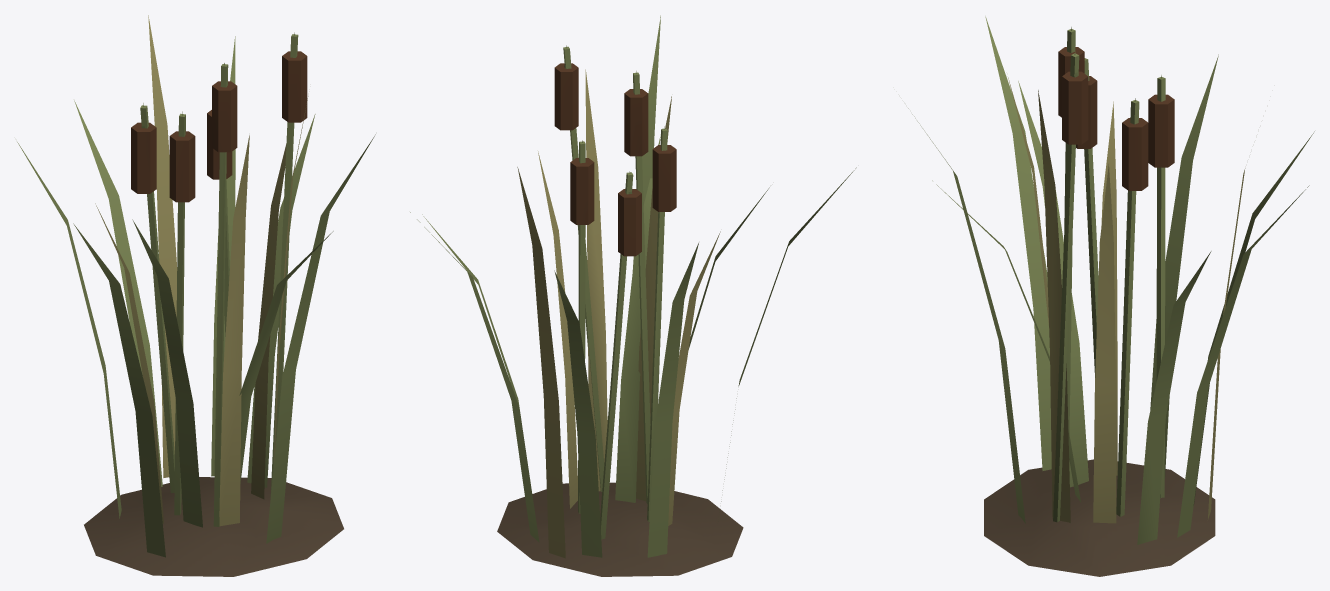
The model's file is reeds_cattail.glb.
3 renders of one model, left to right at view 1: azimuth 30°, elevation 25°; view 2: azimuth 150°, elevation 25°; view 3: azimuth 270°, elevation 25°, orthographic. The views are drawn at different scales.
Visible parts, largest first — view 1: sway, reeds_cattail; view 2: sway, reeds_cattail; view 3: sway, reeds_cattail.
Part boxes in pixels (x1=…): sway: x1=17, y1=15, x2=375, y2=557; reeds_cattail: x1=84, y1=477, x2=343, y2=576; sway: x1=410, y1=15, x2=856, y2=558; reeds_cattail: x1=497, y1=482, x2=743, y2=576; sway: x1=908, y1=16, x2=1314, y2=544; reeds_cattail: x1=984, y1=459, x2=1215, y2=576.
Bounding box in the file's own units: 0.8982 × 1.18 × 0.9158.
